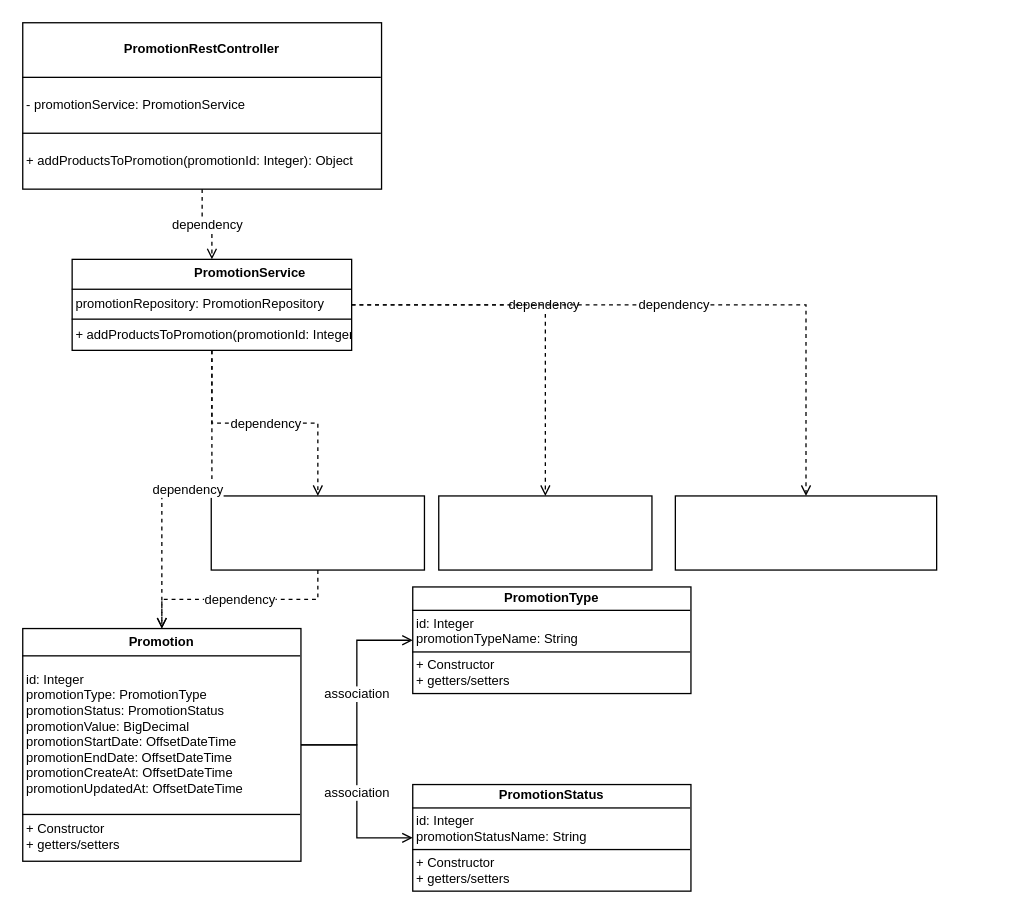
The diagram is 1019 pixels wide and 914 high, and some of its shapes have lost their labels. Each missing label, with the box of its shape:
ProductRepository + findById(productId: Integer): Product: (437, 495, 652, 570)
PromotionRepository + findById(promotionId: Integer): Promotion: (210, 495, 424, 570)
SaveProductRepository + SaveAll(promotionProductId: List of Product): Product: (674, 495, 937, 570)
